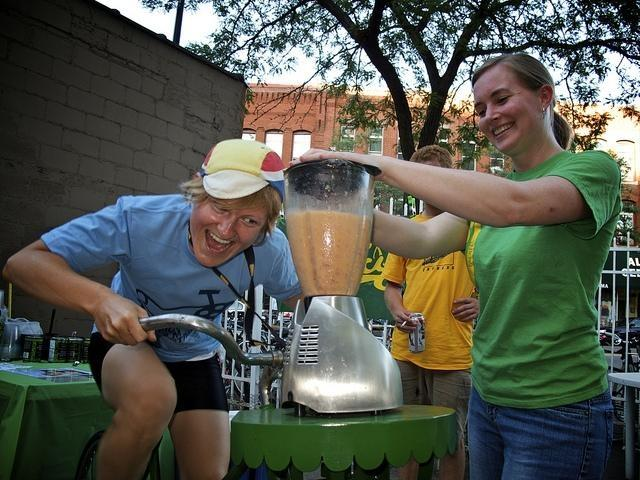bicycle: (146, 314, 296, 412)
car: (601, 317, 640, 340)
